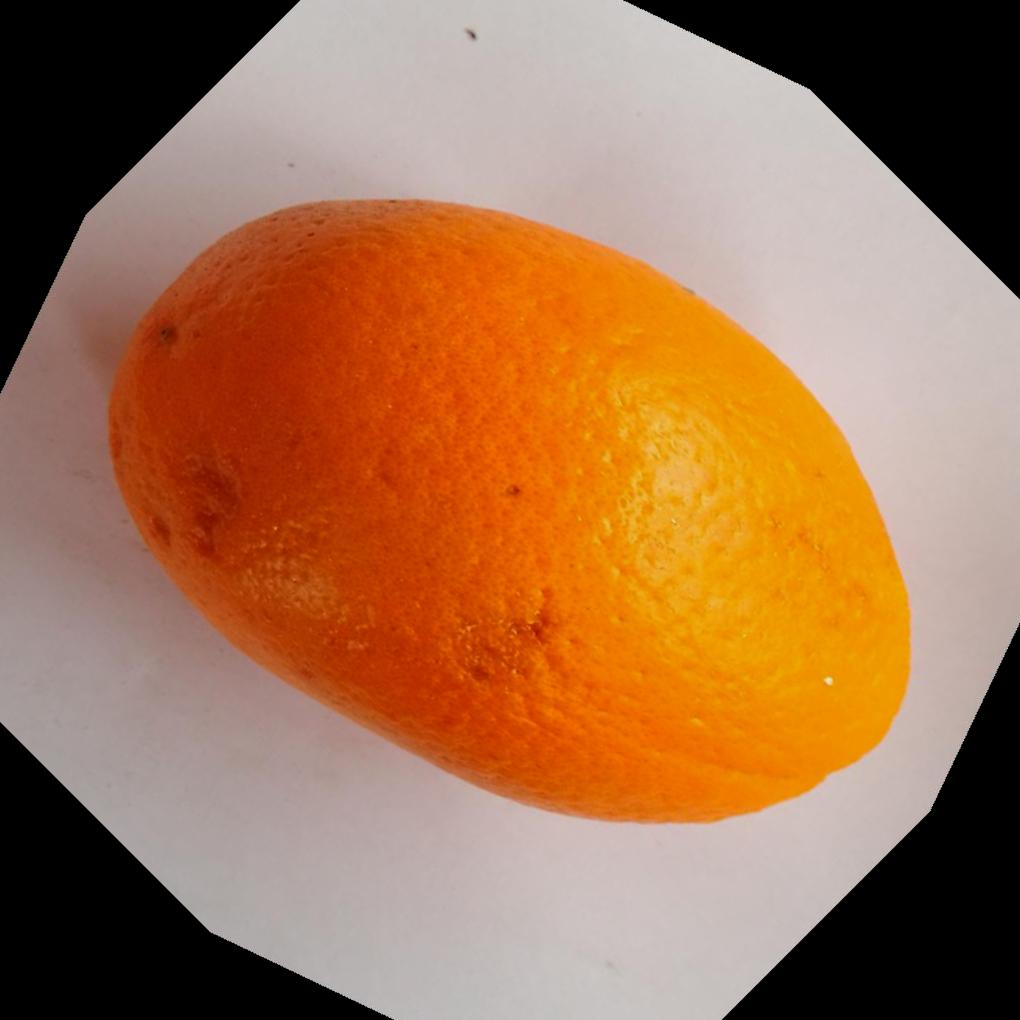FreshGuava: (106, 193, 917, 824)
